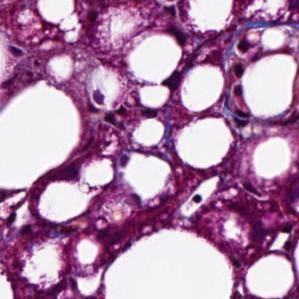inflammation: (225, 37, 257, 79), (226, 84, 252, 131)
